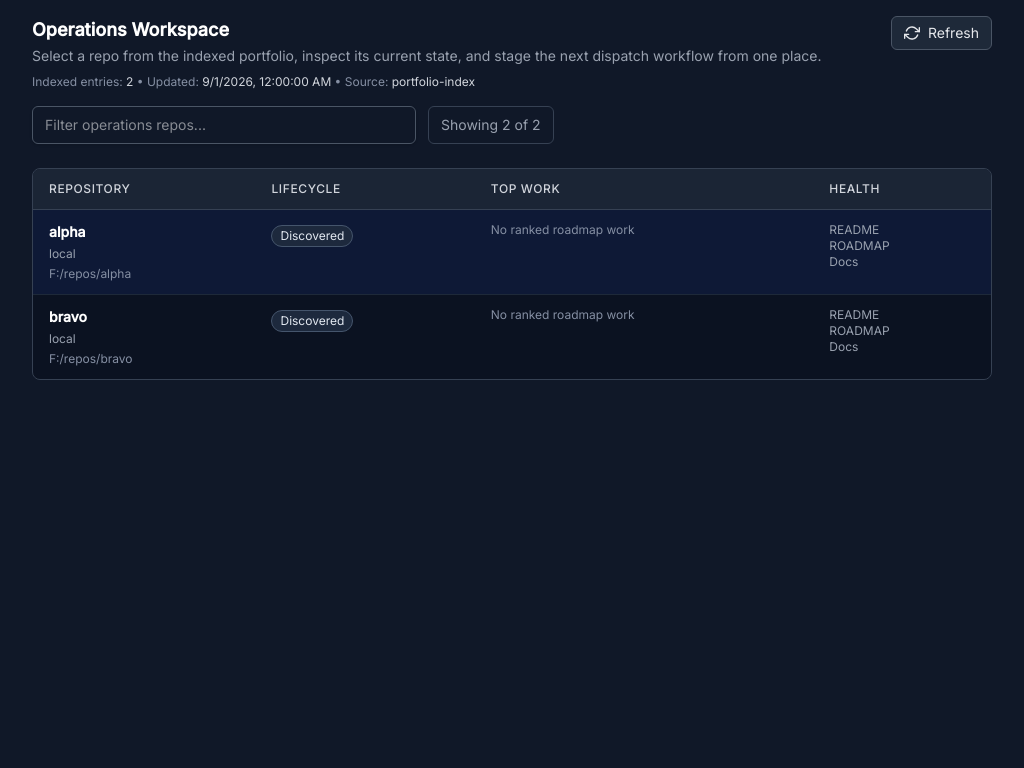
OperationsWorkspaceView — the list is a picker, the repo is the work › returns to the picker, which is the part collapsing-on-selection could not do
This screenshot has width=1024, height=768.
Click the text "alpha": point(67, 232) [49,223,86,240]
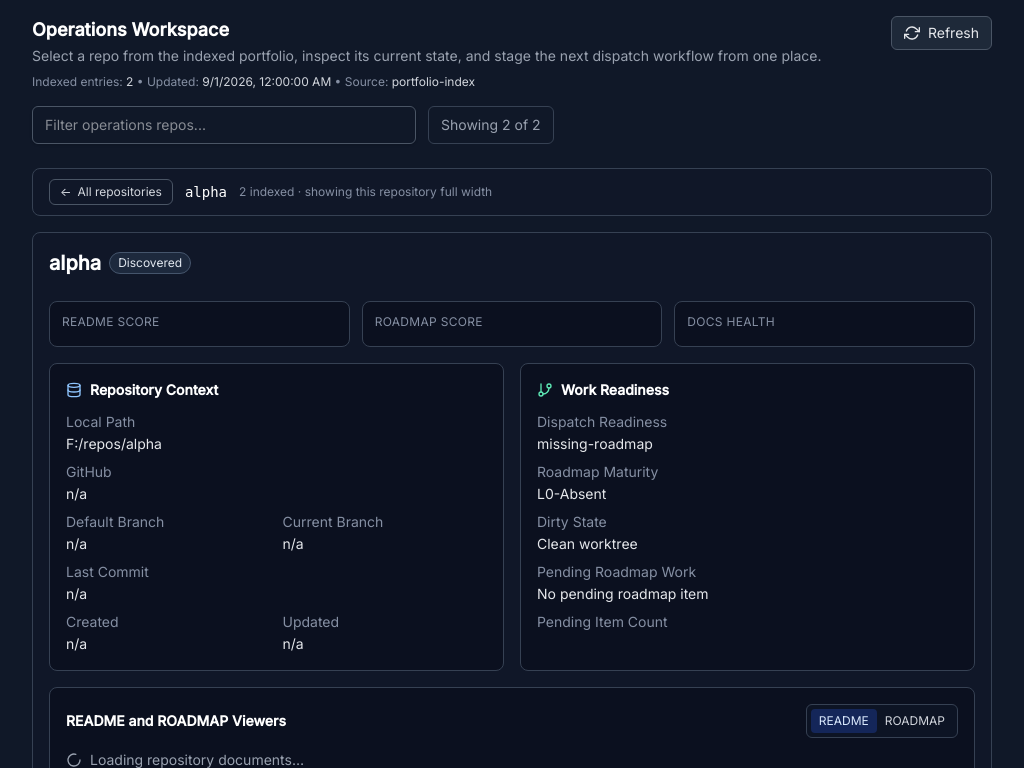
Result: the button with test id "operations-back-to-list" is shown
Click the button with test id "operations-back-to-list": point(111, 192) [49,179,173,205]
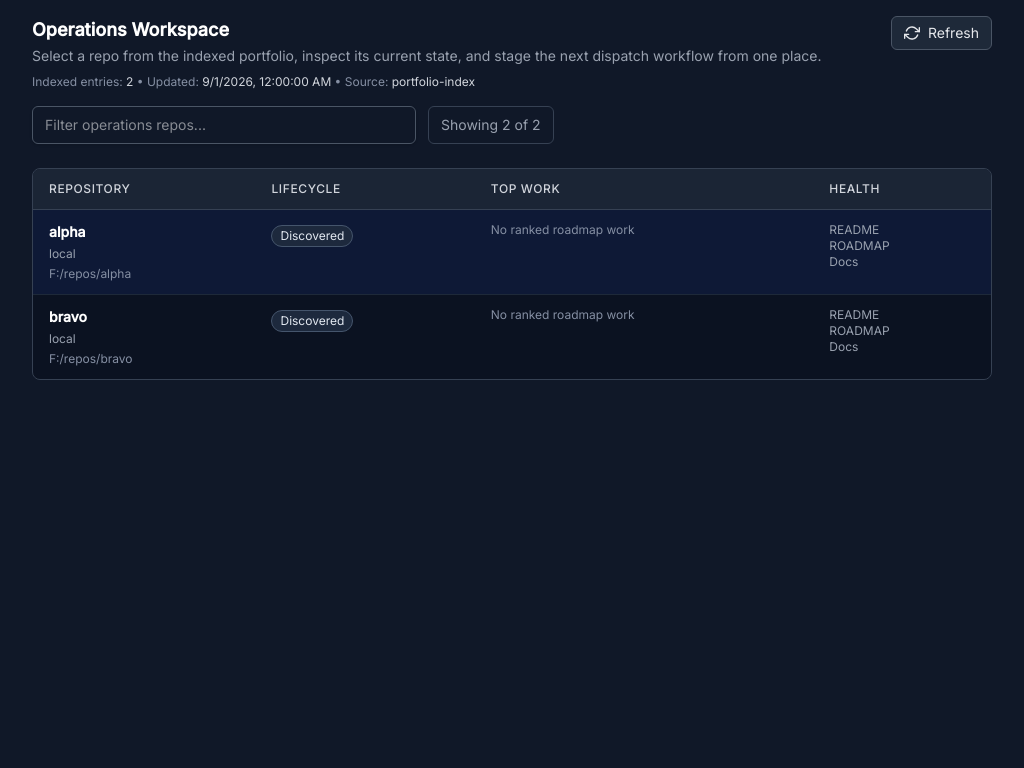
Result: the button with test id "operations-back-to-list" is gone
Result: the text "bravo" is shown at [49,308,87,325]
